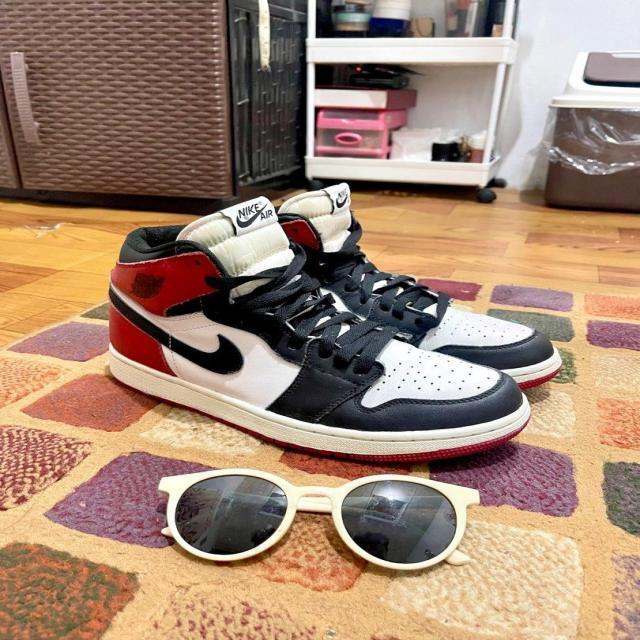nike fake jordan 1: (102, 198, 532, 461), (259, 179, 563, 385)
